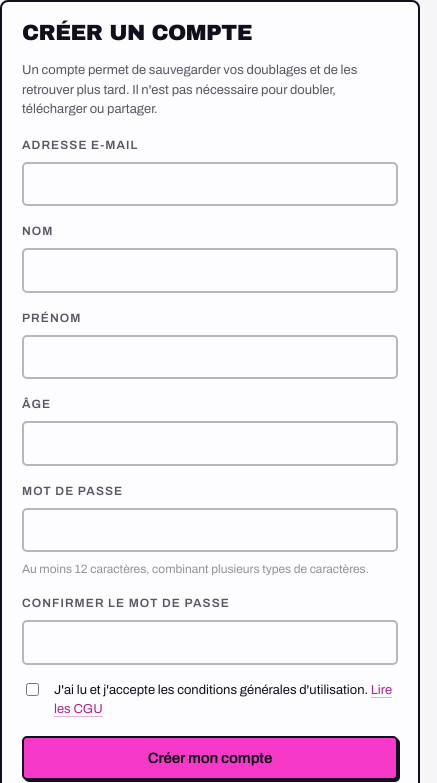
Test: RegisterForm › bloque la soumission tant que les CGU ne sont pas acceptées (ST 4.3)
The width and height of the screenshot is (437, 783).
Type "alice@example.com" into the field labelled "Adresse e-mail" at point(210, 184), box [36,164,384,204]
Type "Martin" into the field labelled "Nom" at point(210, 270), box [36,250,384,291]
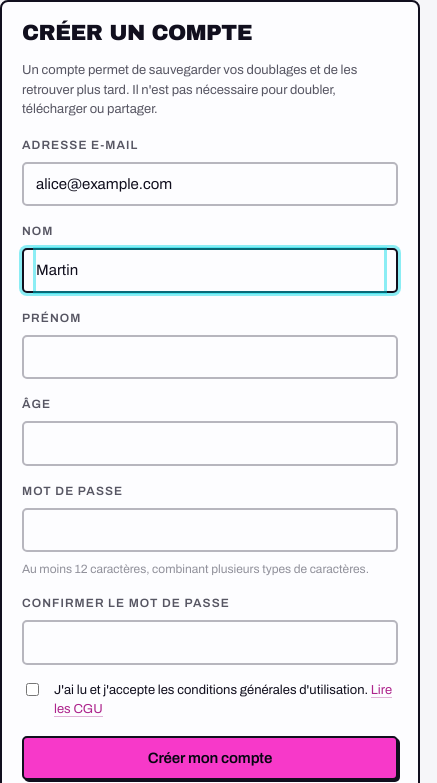
Type "Alice" into the field labelled "Prénom" at point(210, 357), box [36,337,384,377]
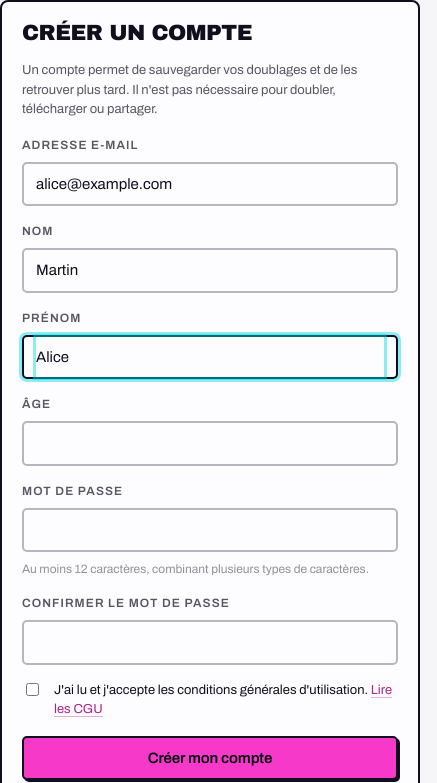
Type "28" into the field labelled "Âge" at point(210, 443), box [36,423,384,464]
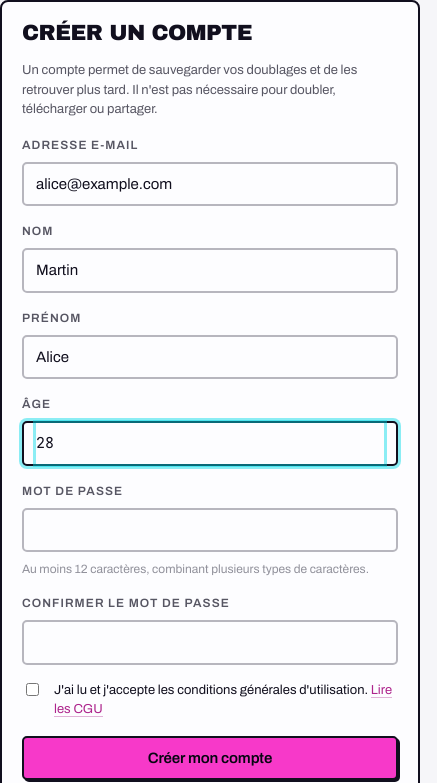
Type "Corr3ct-horse-battery" into the field labelled "Mot de passe" at point(210, 530), box [36,510,384,550]
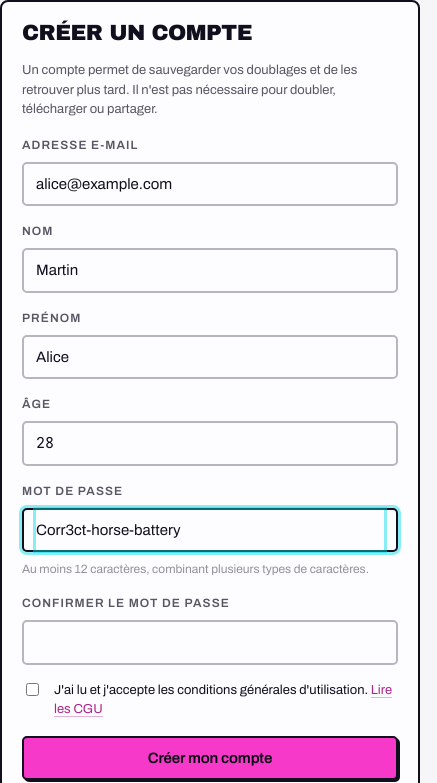
Type "Corr3ct-horse-battery" into the password field labelled "Confirmer le mot de passe" at point(210, 642), box [22,620,398,665]
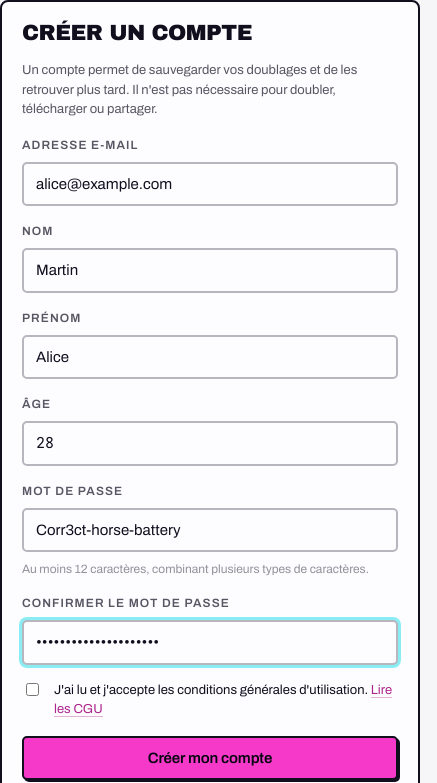
Click the button "Créer mon compte" at point(210, 758), box [22,736,398,780]
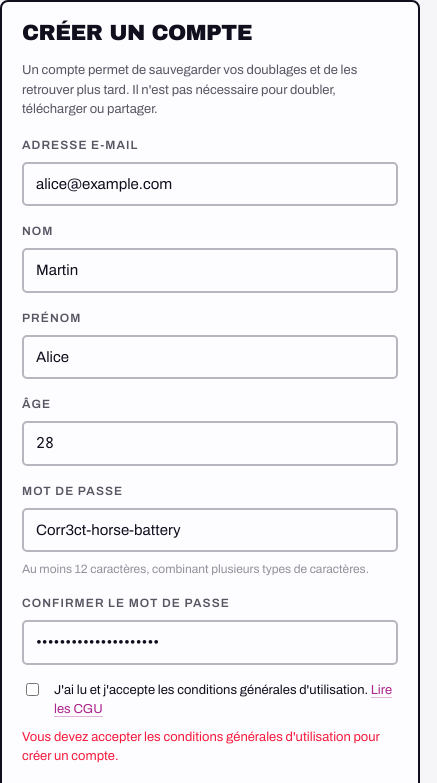
Expected: the text "accepter les conditions générales" is shown, [22,730,380,763]
